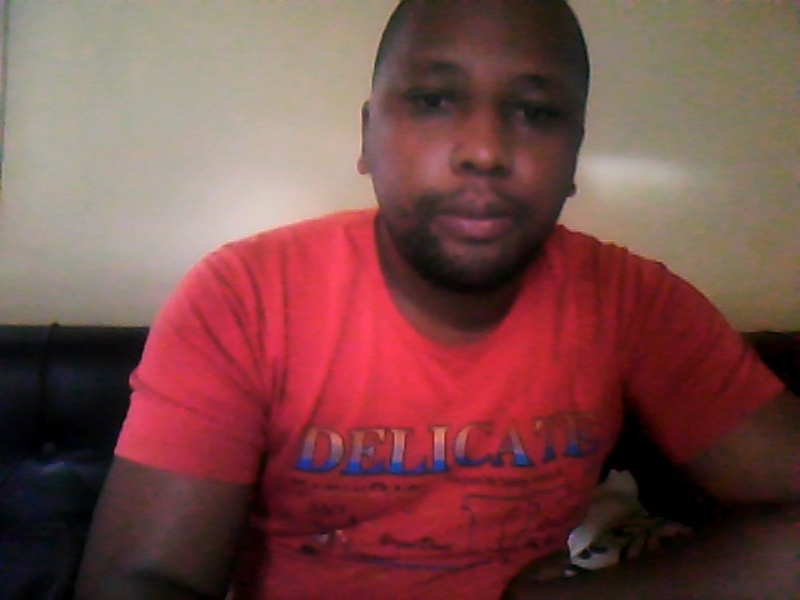TsisyArotava: (345, 7, 598, 291)
